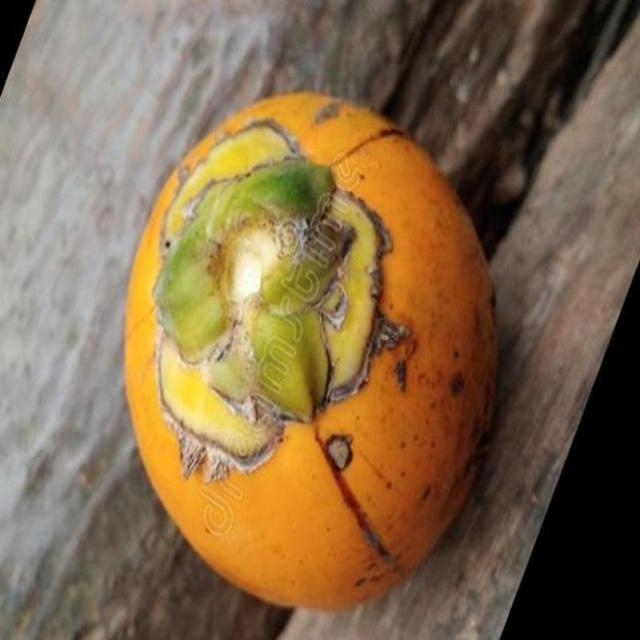good: (122, 98, 493, 613)
